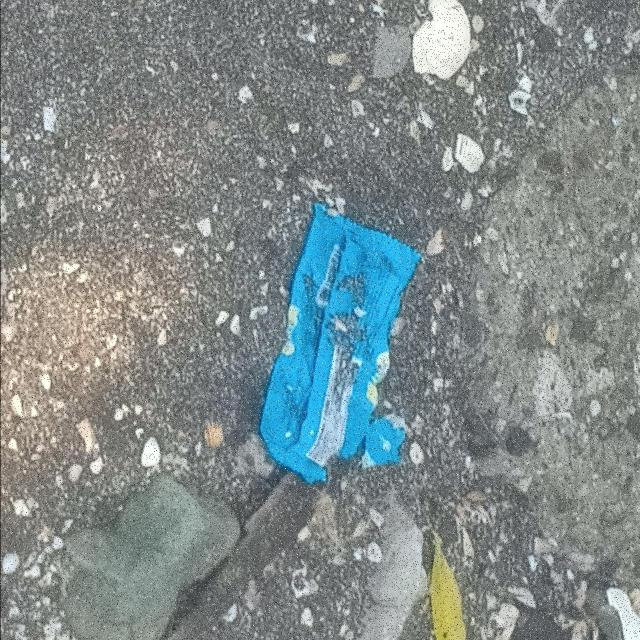plastic_waste: (258, 202, 425, 488)
